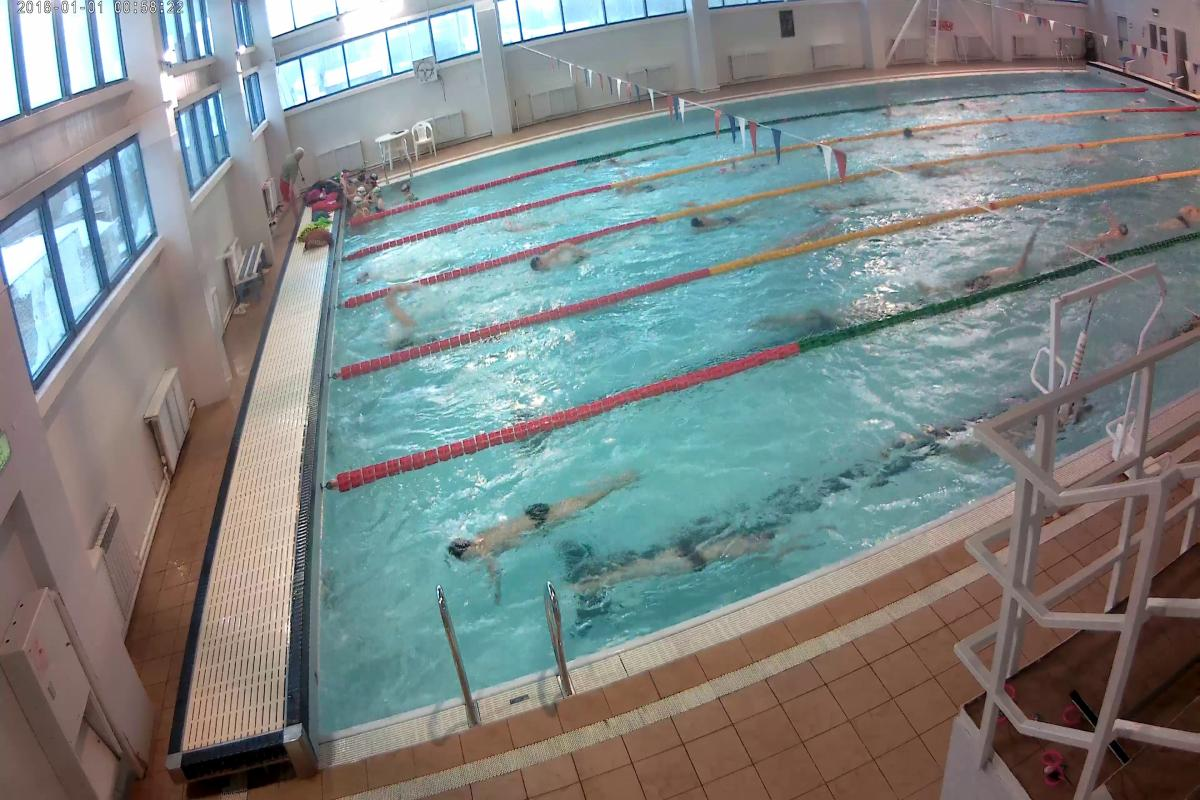swimmer: (455, 491, 628, 561), (611, 536, 776, 584), (936, 408, 1044, 462), (357, 301, 442, 352), (1060, 217, 1146, 262), (522, 241, 604, 284), (940, 249, 1026, 289), (684, 208, 762, 243), (808, 186, 888, 208), (782, 307, 866, 325), (1177, 201, 1198, 233)
